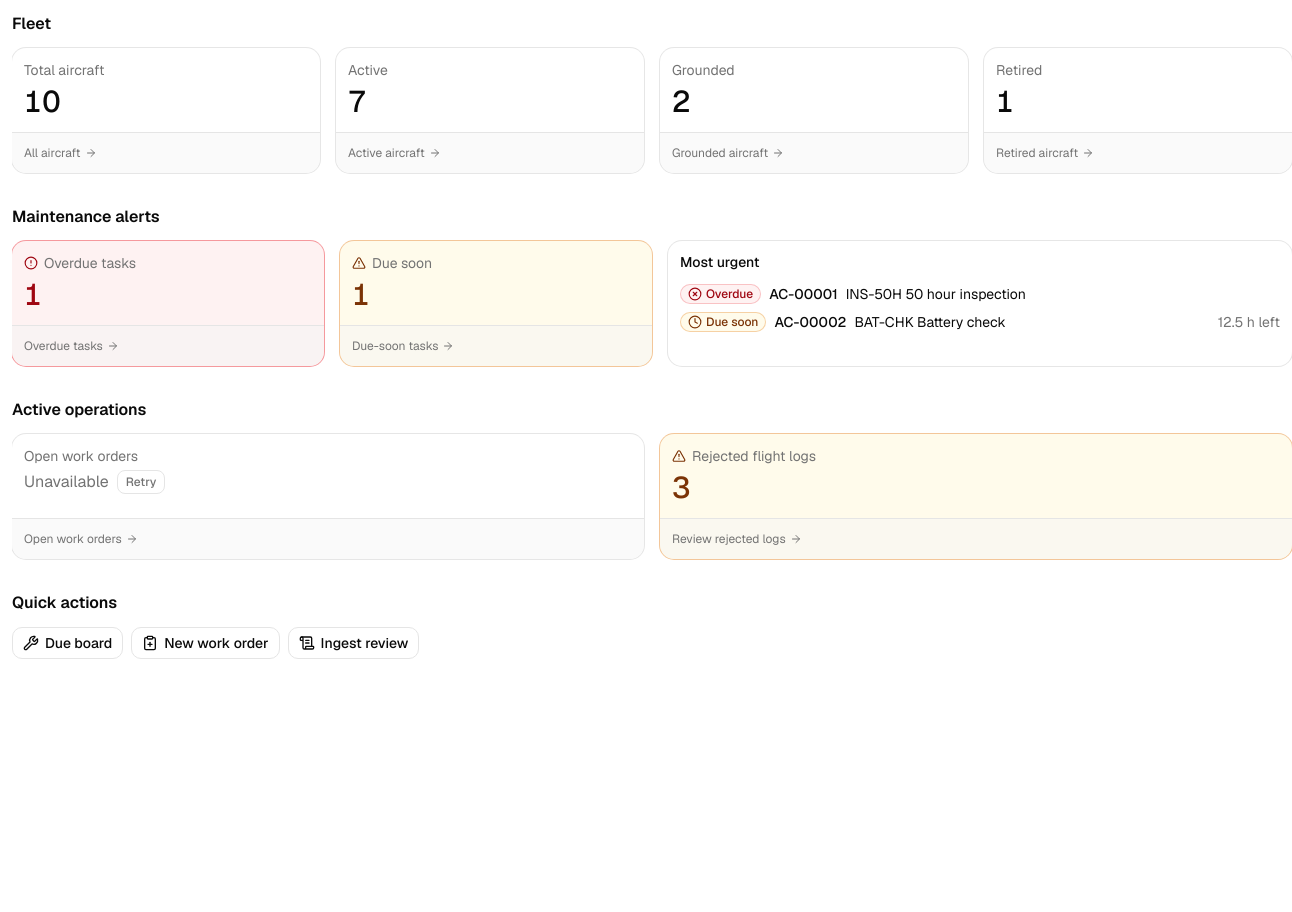
Scenario: Dashboard › shows a failed KPI as unavailable and retries it
Expected: the text "Unavailable" is shown, [24, 471, 109, 492]
Click the button "Retry": x=141, y=482 [117, 470, 165, 494]
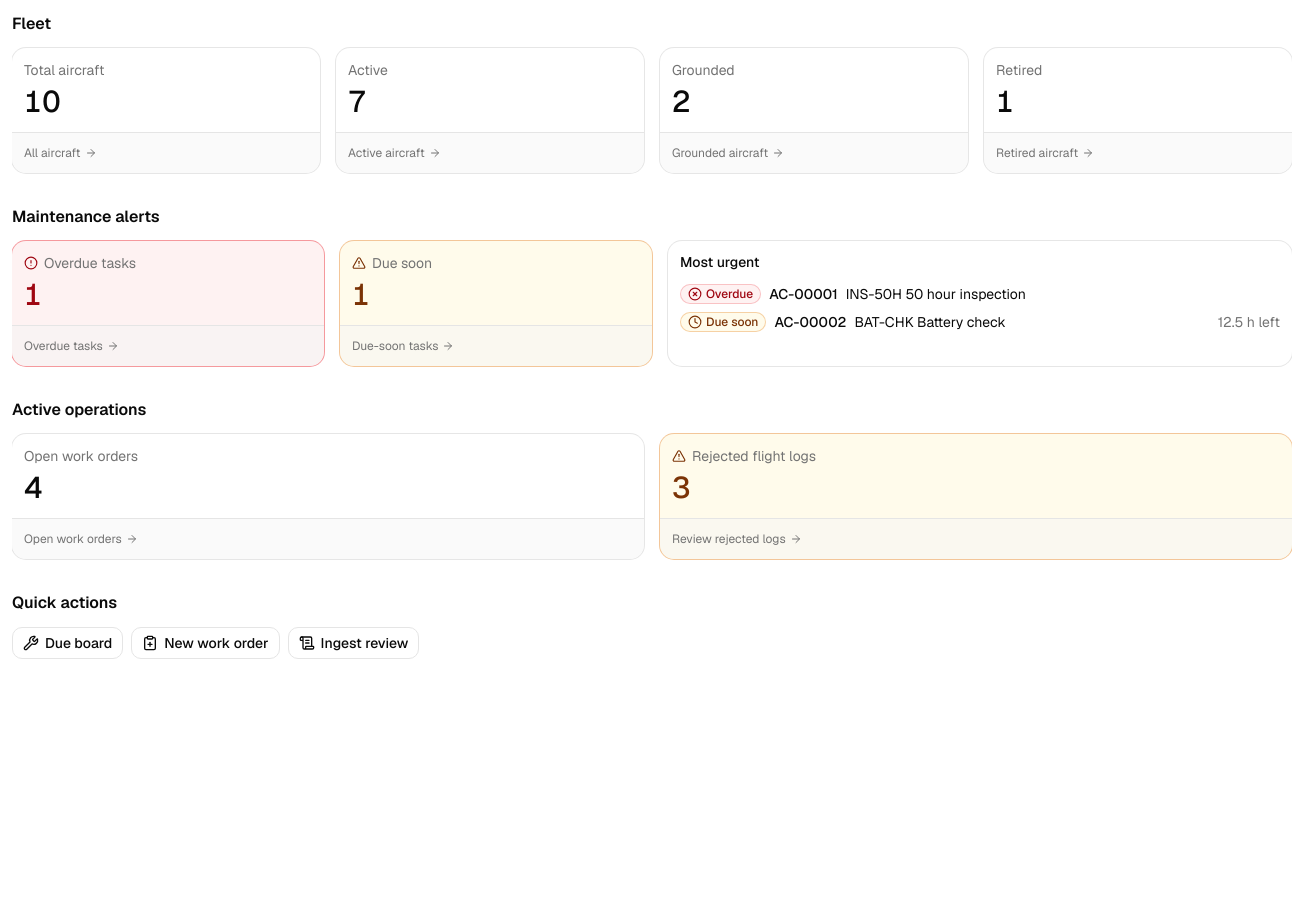
Expected: the text "4" is shown, [24, 468, 42, 507]
